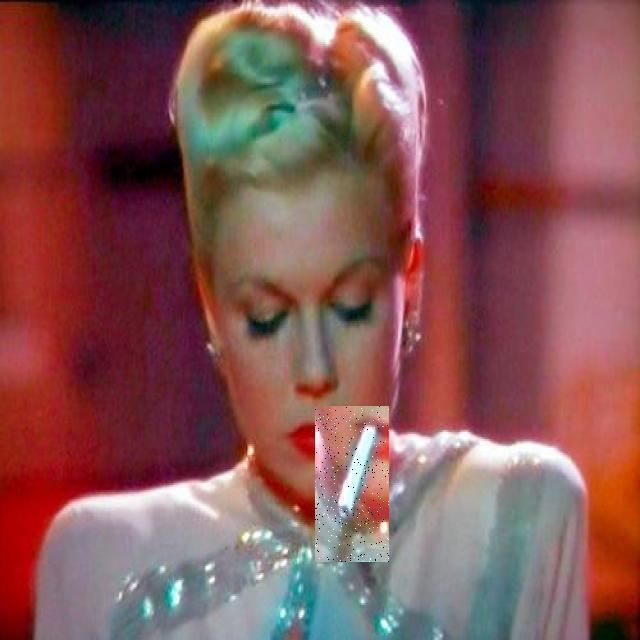smoking: (315, 406, 389, 562)
